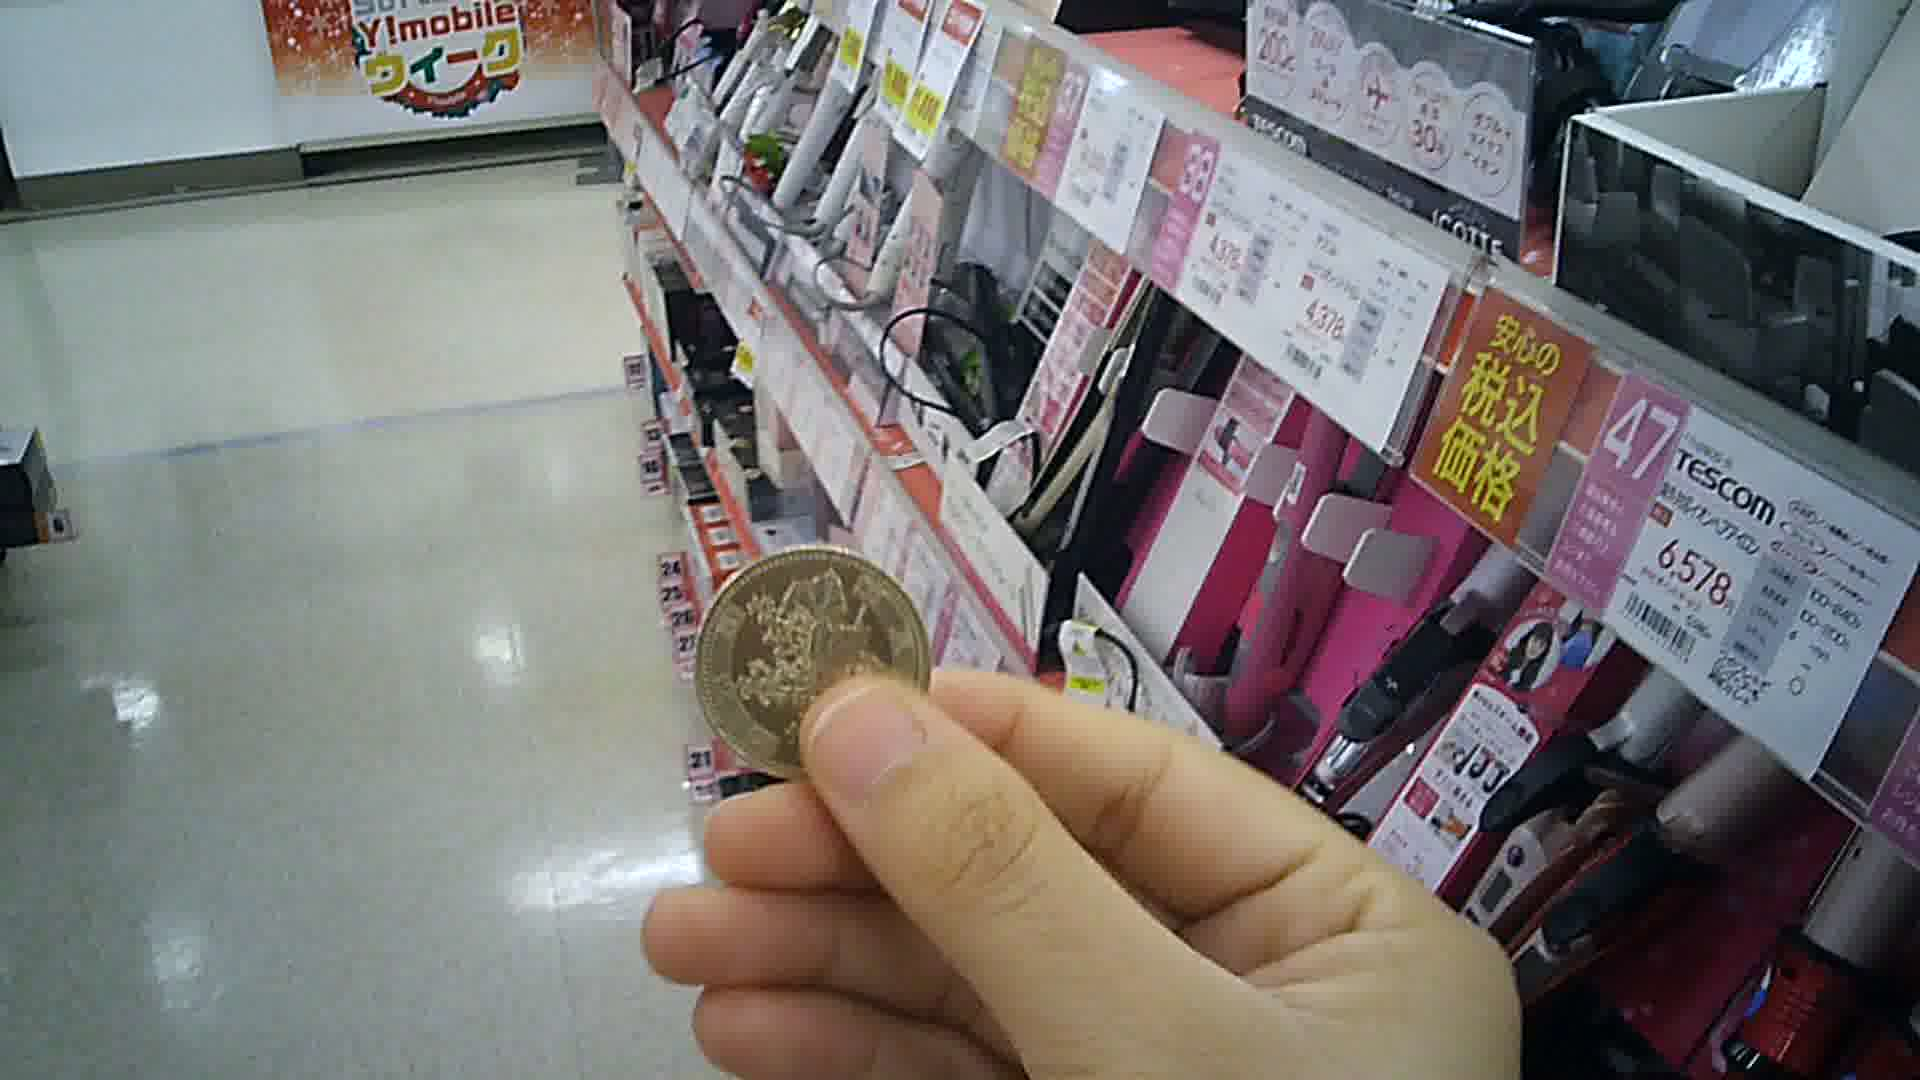500 Yen: (690, 545, 938, 793)
